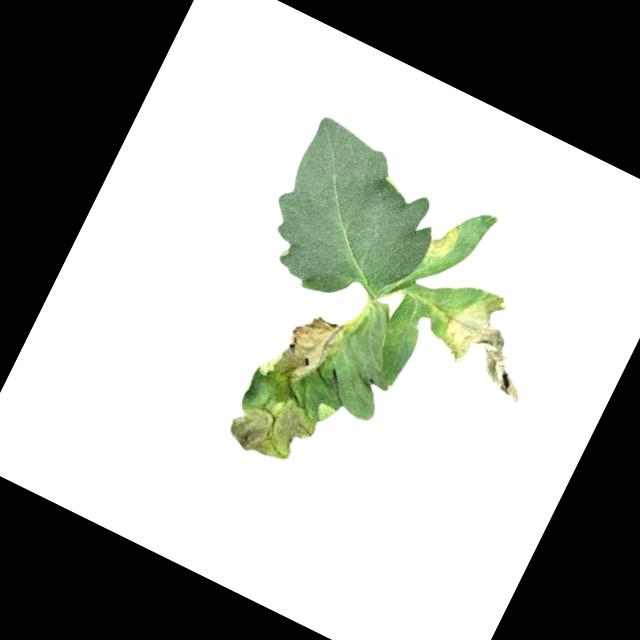Late_blight: (420, 275, 559, 408), (221, 370, 336, 479), (251, 299, 352, 405), (424, 214, 466, 263)
healthy: (246, 111, 460, 329)
